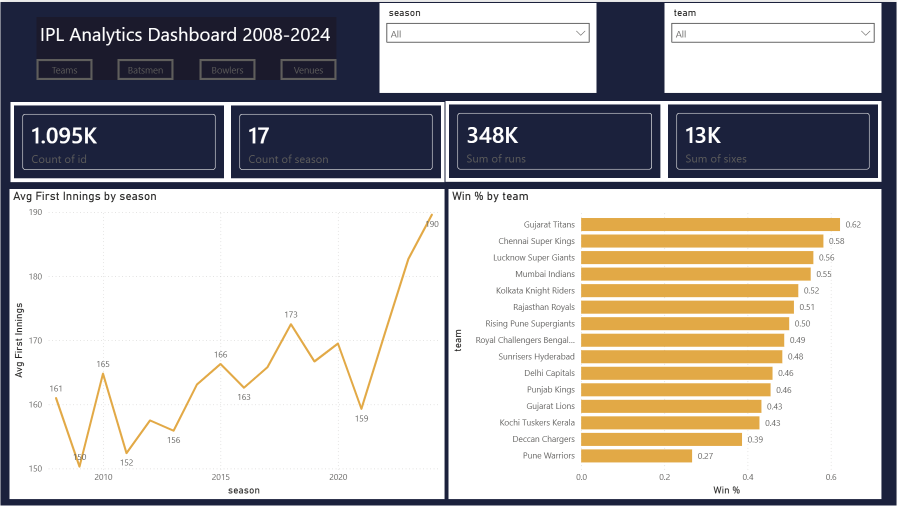

The page's visual inventory and layout, read from the dashboard file:
{"tool":"powerbi","page":{"name":"Overview","canvas":[1280,720],"ordinal":0},"visuals":[{"type":"textbox","box":[51.4,21.4,428.6,90],"z":0},{"type":"slicer","fields":{"Values":["Matches.season"]},"box":[540.7,1.4,310,128.6],"z":1000},{"type":"cardVisual","fields":{"Data":["CountNonNull(Matches.id)"]},"box":[14.3,143.5,310,114.3],"z":1000,"group":"g1"},{"type":"slicer","fields":{"Values":["Team_Season.team"]},"box":[948.6,1.4,310,128.6],"z":2000},{"type":"cardVisual","fields":{"Data":["Count(Matches.season)"]},"box":[324.8,142.8,310,114.3],"z":2000,"group":"g1"},{"type":"group","id":"g1","title":"Group 1","box":[14.3,142.1,1244.3,115.7],"z":3000},{"type":"cardVisual","fields":{"Data":["Sum(Over_Summary.runs)"]},"box":[635.3,142.1,312.9,115.7],"z":3000,"group":"g1"},{"type":"cardVisual","fields":{"Data":["Sum(Over_Summary.sixes)"]},"box":[948.6,142.1,310,115.7],"z":4000,"group":"g1"},{"type":"lineChart","fields":{"Category":["Seasons.season"],"Y":["Seasons.Avg First Innings"]},"box":[12.9,267.1,621.4,442.9],"z":4000},{"type":"barChart","fields":{"Category":["Team_Season.team"],"Y":["Team_Season.Win %"]},"box":[640,267.1,618.6,442.9],"z":5000},{"type":"actionButton","box":[51.4,81.4,80,30],"z":6000},{"type":"actionButton","box":[400,81.4,80,30],"z":7000},{"type":"actionButton","box":[167.6,81.4,80,30],"z":8000},{"type":"actionButton","box":[283.8,81.4,80,30],"z":9000}]}

Visuals, with their boxes in screenshot pixels (x1, y1, x2, y2), scaled from the page's 1280x720 canvas onto the 898x506 screenshot:
textbox: {"x1": 36, "y1": 15, "x2": 337, "y2": 78}
slicer - Matches.season: {"x1": 379, "y1": 1, "x2": 597, "y2": 91}
cardVisual - CountNonNull(Matches.id): {"x1": 10, "y1": 101, "x2": 228, "y2": 181}
slicer - Team_Season.team: {"x1": 666, "y1": 1, "x2": 883, "y2": 91}
cardVisual - Count(Matches.season): {"x1": 228, "y1": 100, "x2": 445, "y2": 181}
"Group 1" group: {"x1": 10, "y1": 100, "x2": 883, "y2": 181}
cardVisual - Sum(Over_Summary.runs): {"x1": 446, "y1": 100, "x2": 665, "y2": 181}
cardVisual - Sum(Over_Summary.sixes): {"x1": 666, "y1": 100, "x2": 883, "y2": 181}
lineChart - Seasons.season x Seasons.Avg First Innings: {"x1": 9, "y1": 188, "x2": 445, "y2": 499}
barChart - Team_Season.team x Team_Season.Win %: {"x1": 449, "y1": 188, "x2": 883, "y2": 499}
actionButton: {"x1": 36, "y1": 57, "x2": 92, "y2": 78}
actionButton: {"x1": 281, "y1": 57, "x2": 337, "y2": 78}
actionButton: {"x1": 118, "y1": 57, "x2": 174, "y2": 78}
actionButton: {"x1": 199, "y1": 57, "x2": 255, "y2": 78}
